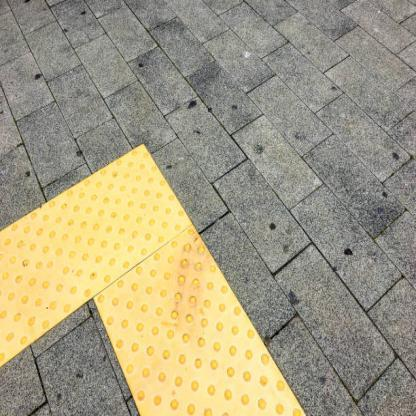podotacti: (0, 117, 327, 416)
